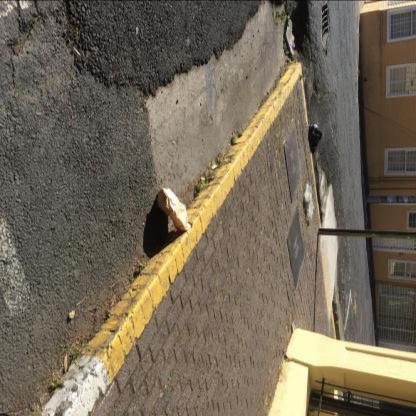Carton: (289, 32, 294, 49), (283, 43, 289, 55)
Other litter: (156, 188, 191, 231)
Plastic bag - wrapper: (308, 122, 320, 154)
